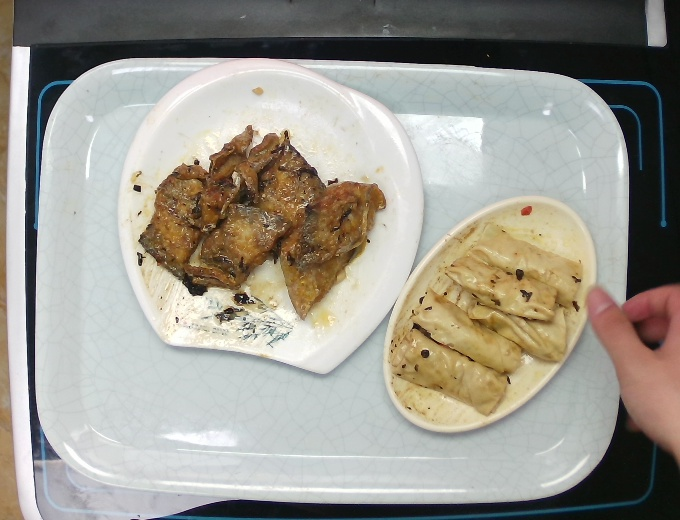JYsf-Mian_Pan: (113, 58, 426, 377)
JYsf-Tuo_Yuan_Wan: (382, 190, 601, 438)
